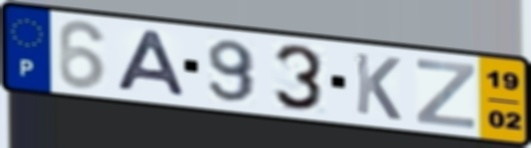3: (269, 42, 330, 114)
6: (55, 19, 111, 92)
9: (205, 37, 259, 106)
A: (111, 28, 191, 100)
K: (352, 50, 404, 124)
Z: (412, 56, 478, 131)
